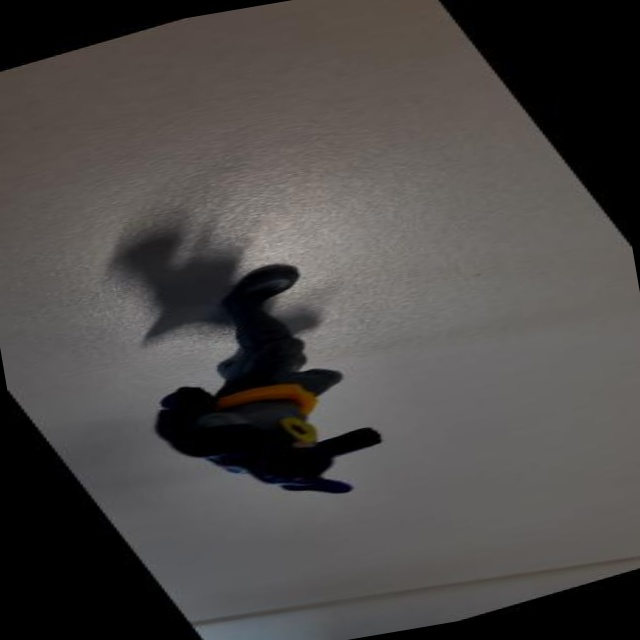Batman: (66, 230, 470, 549)
